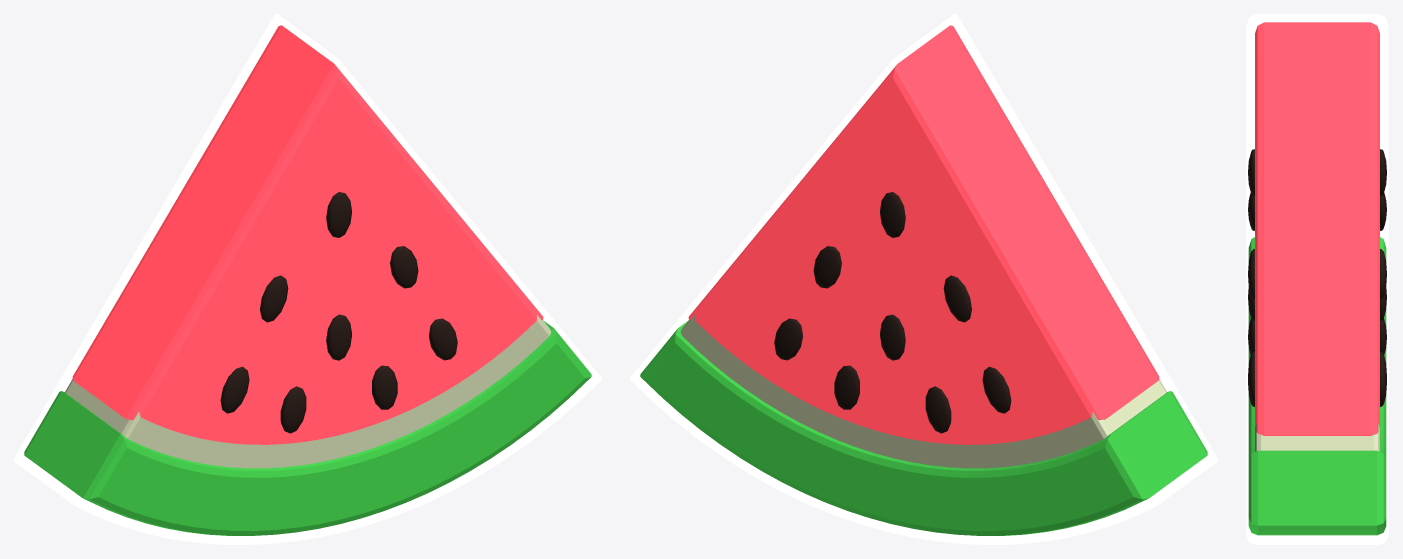
The model's file is pickup_melon.73de564c.glb.
3 renders of one model, left to right at view 1: azimuth 30°, elevation 25°; view 2: azimuth 150°, elevation 25°; view 3: azimuth 270°, elevation 25°, orthographic.
Parts seen in each view (by area): view 1: pickup_watermelon; view 2: pickup_watermelon; view 3: pickup_watermelon.
Part boxes in pixels (box(x1,y1,x2,y2)): pickup_watermelon: box(14, 14, 601, 544); pickup_watermelon: box(630, 14, 1217, 544); pickup_watermelon: box(1246, 14, 1388, 544).
Bounding box in the file's own units: 0.4046 × 0.3483 × 0.0931.
